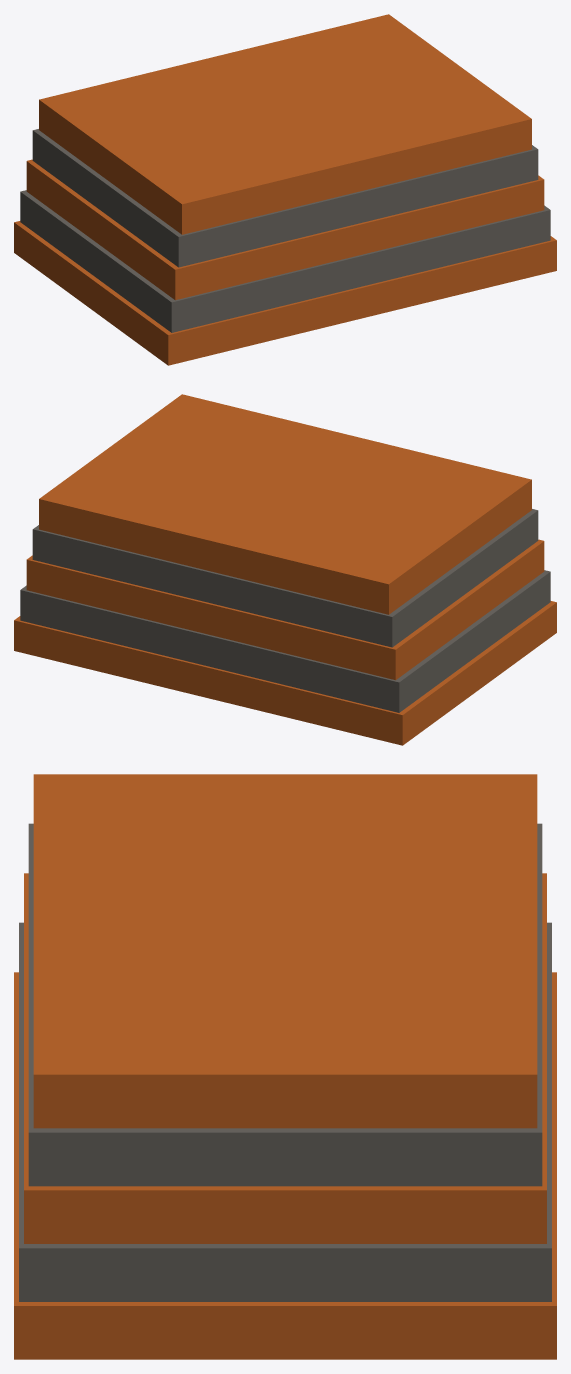
The model's file is blanket.glb.
3 renders of one model, top to bottom at view 1: azimuth 30°, elevation 25°; view 2: azimuth 150°, elevation 25°; view 3: azimuth 270°, elevation 25°, orthographic. The views are drawn at different scales.
Parts seen in each view (by area): view 1: m; view 2: m; view 3: m.
Part boxes in pixels (box(x1,y1,x2,y2)): m: box(14, 14, 556, 365); m: box(14, 394, 556, 745); m: box(14, 774, 556, 1359).
Bounding box in the file's own units: 0.16 × 0.06 × 0.11.
